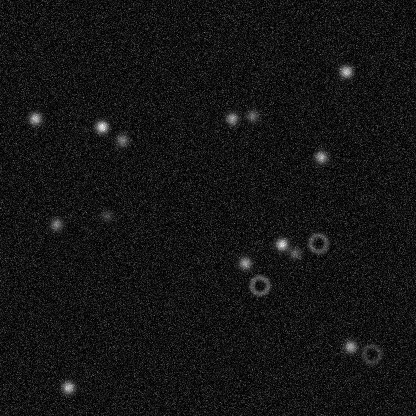Ring: (359, 341, 383, 365), (247, 273, 271, 297), (305, 231, 329, 255)
Spot: (223, 110, 239, 126), (342, 338, 358, 354), (60, 379, 76, 395), (273, 236, 289, 252), (312, 148, 328, 164), (93, 118, 109, 134), (337, 63, 353, 79), (114, 132, 130, 148), (98, 207, 114, 223), (286, 245, 302, 261), (48, 216, 64, 232), (244, 107, 260, 123), (236, 255, 252, 271), (27, 110, 43, 126)
